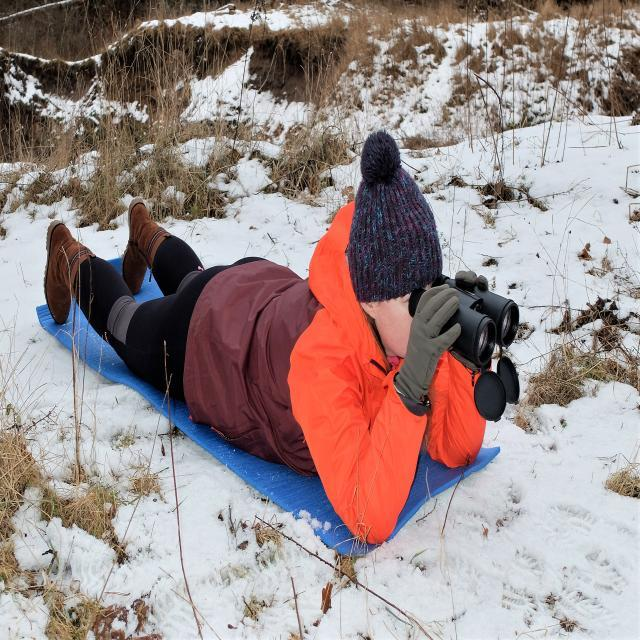Binocular: (417, 274, 528, 358)
